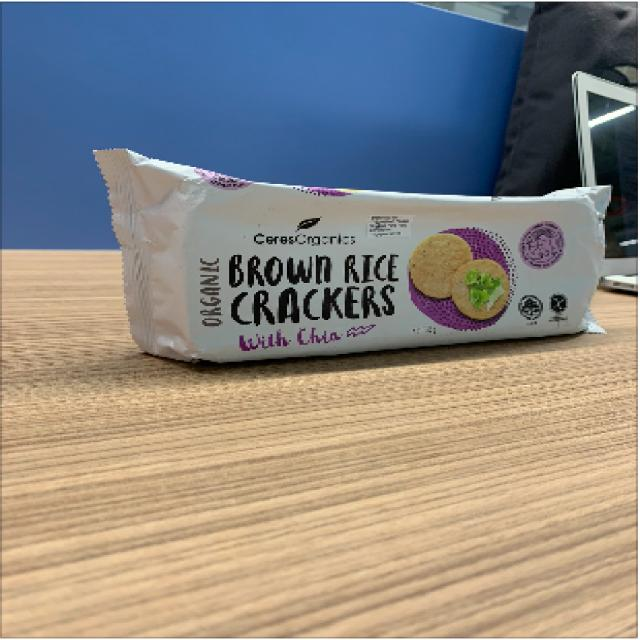object_name: (125, 158, 594, 332)
